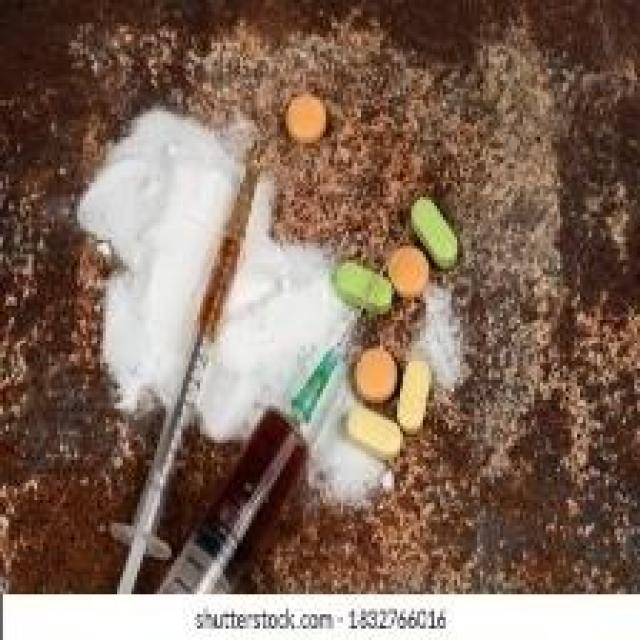syringe: (114, 122, 388, 590)
